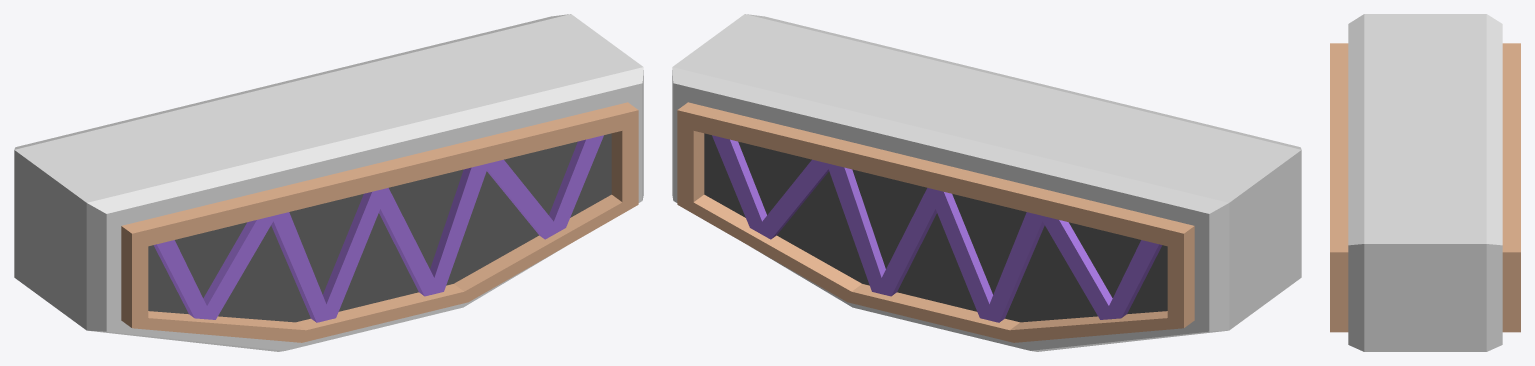
The model's file is Breakout Paddle.fbx.
3 renders of one model, left to right at view 1: azimuth 30°, elevation 25°; view 2: azimuth 150°, elevation 25°; view 3: azimuth 270°, elevation 25°, orthographic. The views are drawn at different scales.
Visible parts, largest first — view 1: Cube; view 2: Cube; view 3: Cube.
Boxes of the visible parts, x1,y1,x2,y2 form: Cube: [14, 14, 643, 351]; Cube: [672, 14, 1301, 351]; Cube: [1330, 14, 1520, 351].
Bounding box in the file's own units: 705 × 237 × 247.
